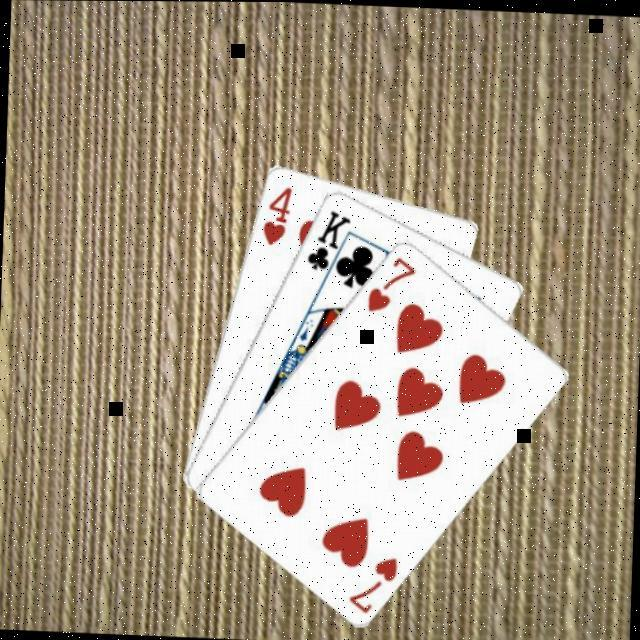4H: (257, 182, 293, 249)
7H: (343, 551, 400, 617), (362, 252, 419, 316)
KC: (301, 205, 354, 285)
